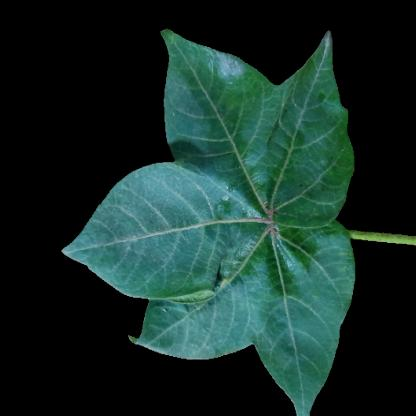healthy: (118, 198, 343, 298), (207, 98, 317, 198), (148, 303, 253, 354), (256, 304, 334, 366), (171, 45, 213, 101)
